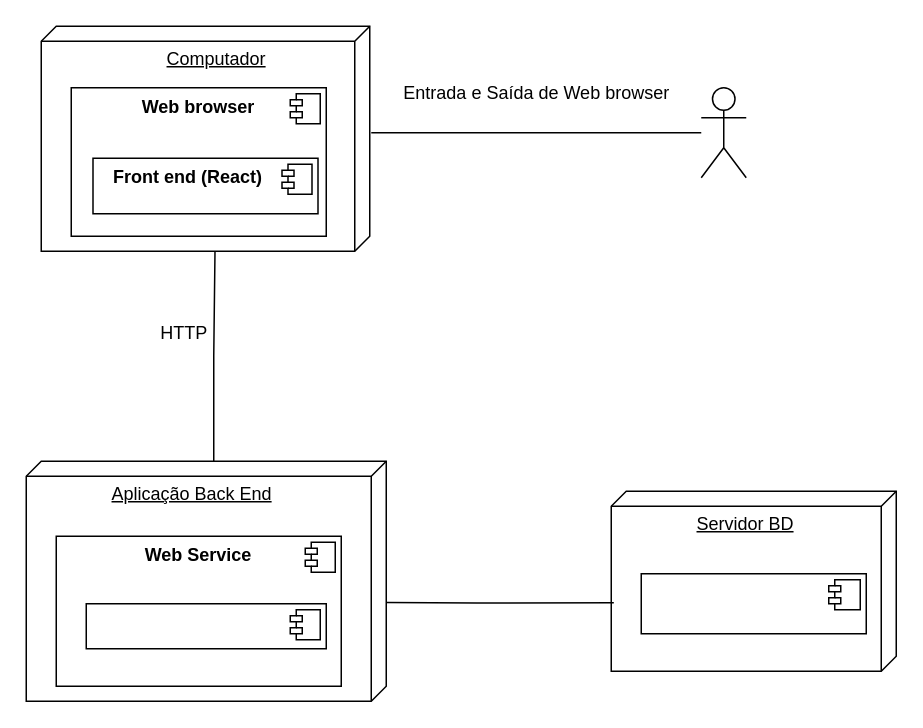
This 923x728 diagram has some shape labels left out. The shapes that lost their labels are listed below. From the top down, each one's centre as x and y in pixels, then its label:
At (723,132): "Usuário".
At (753,603): "PostgreSQL".
At (205,625): "API Java Springboot".
